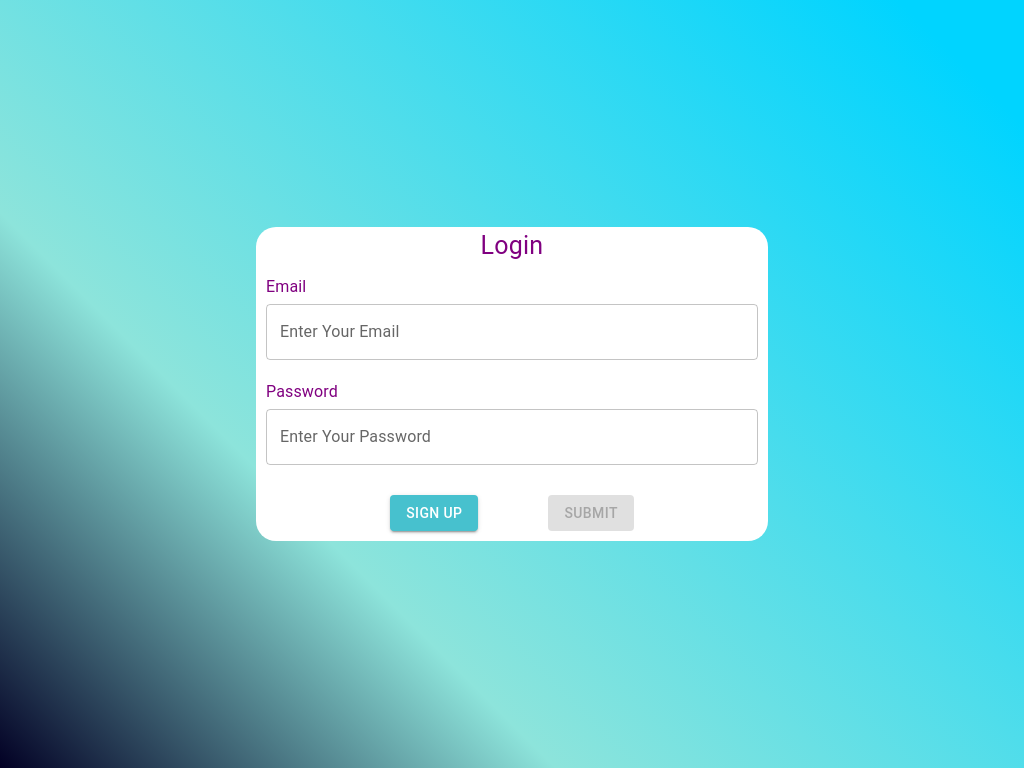
Login Component › enables submit button when form is valid
Type "test@example.com" into the field labelled "Enter Your Email" at x=512, y=332, box [266,304,758,360]
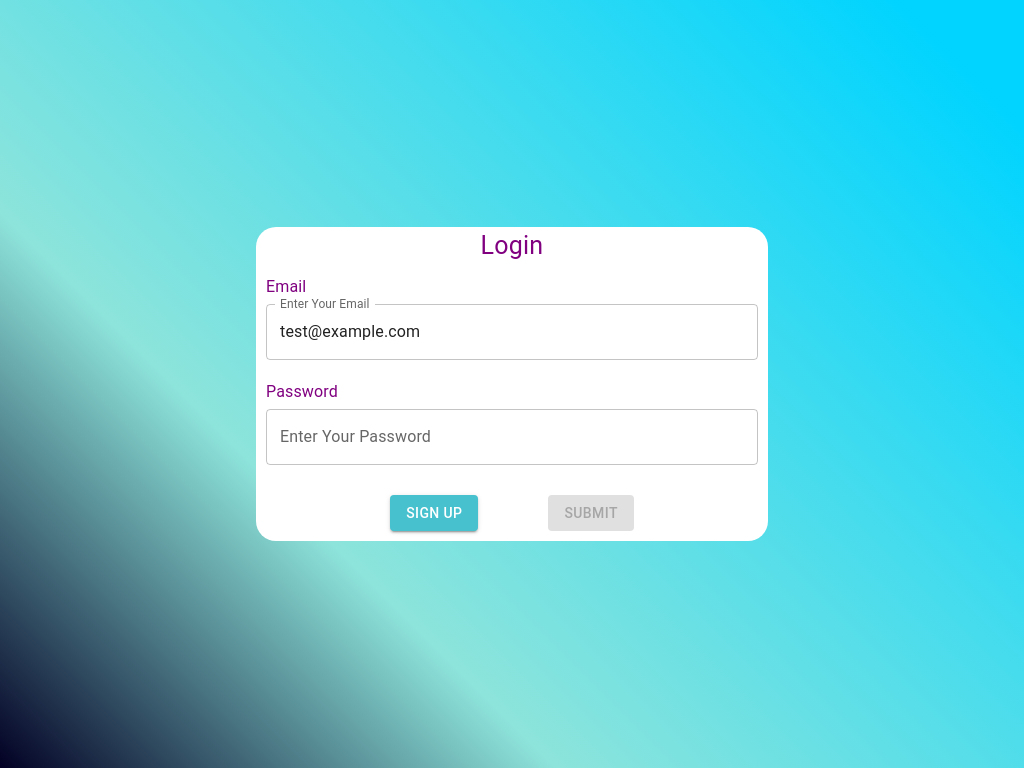
Type "password123" into the password field labelled "Enter Your Password" at x=512, y=436, box [266,408,758,464]
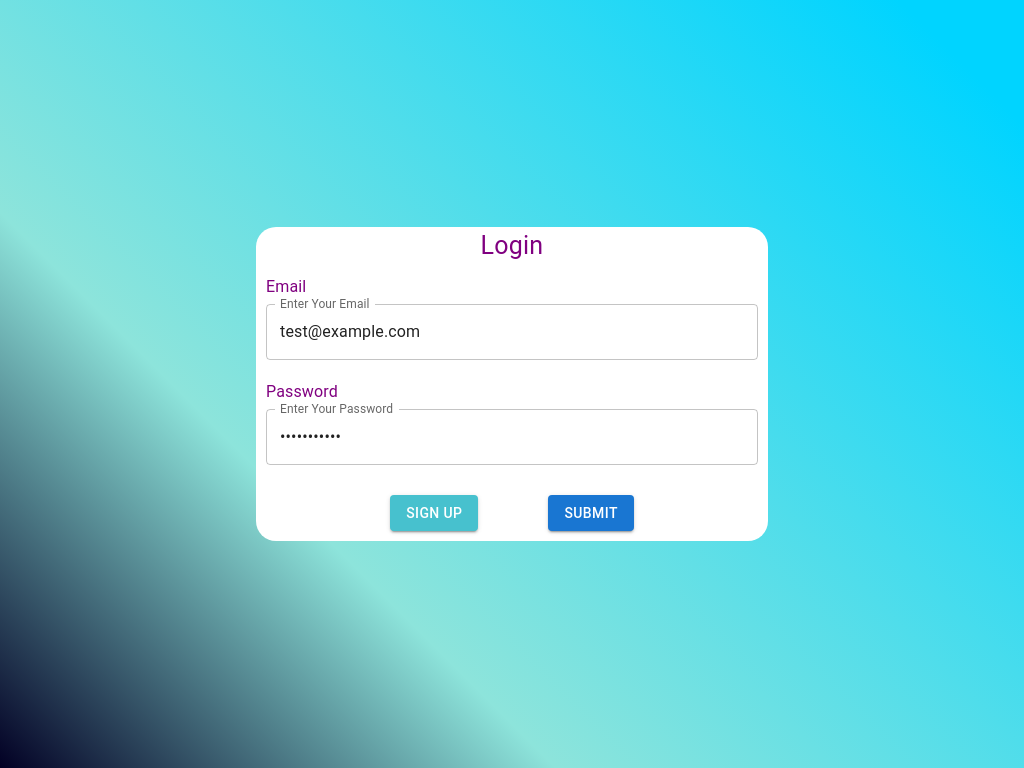
Check: the button "Submit" is enabled, box [548,494,634,531]
